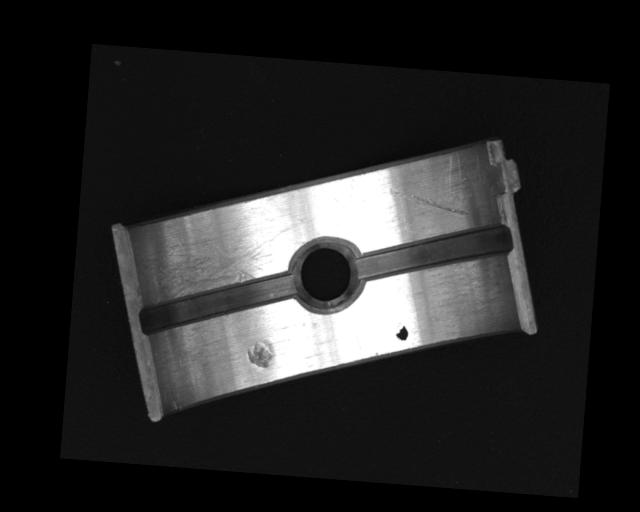blot: (394, 322, 409, 341)
bruise: (245, 337, 277, 369)
gap: (138, 261, 298, 344), (354, 213, 513, 293)
hole: (289, 237, 363, 311)
nick: (387, 188, 471, 217)
scratch: (137, 215, 291, 310)
